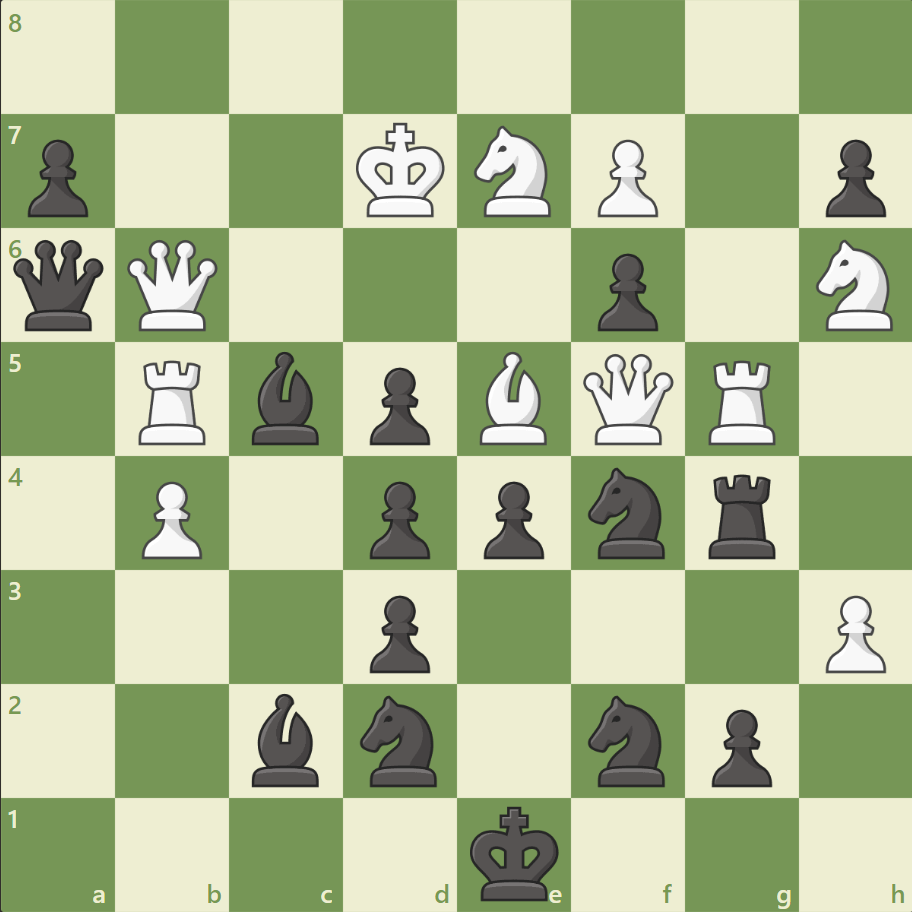B: (471, 347, 555, 449)
K: (351, 117, 451, 225)
N: (806, 234, 903, 337), (465, 121, 562, 223)
P: (133, 473, 208, 564), (588, 132, 662, 223), (815, 586, 889, 677)
Q: (578, 349, 677, 449), (124, 236, 223, 335)
R: (700, 352, 783, 449), (133, 352, 215, 449)
b: (244, 687, 328, 790), (244, 347, 328, 449)
k: (465, 798, 565, 906)
n: (351, 688, 449, 791), (579, 461, 676, 564), (579, 688, 676, 791)
p: (20, 132, 95, 223), (474, 473, 549, 564), (701, 700, 776, 791), (815, 132, 889, 223), (588, 246, 662, 337), (361, 359, 435, 450), (361, 473, 435, 564), (361, 586, 435, 677)
q: (10, 236, 109, 335)
r: (700, 466, 783, 563)
